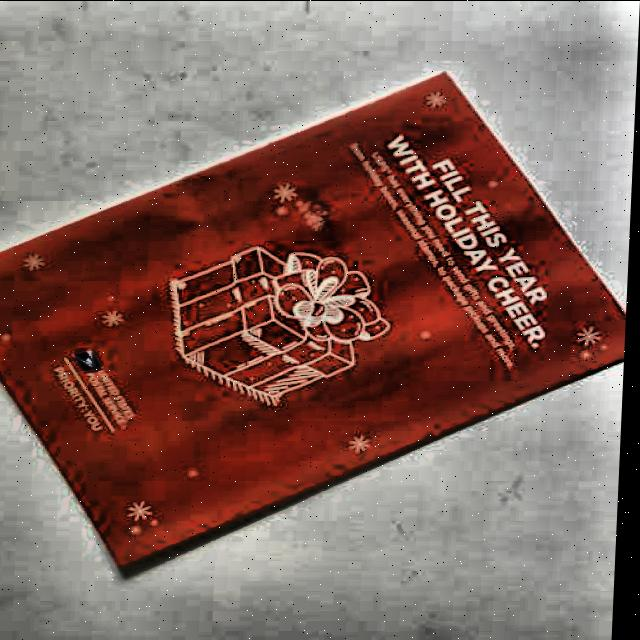paper: (0, 64, 637, 568)
